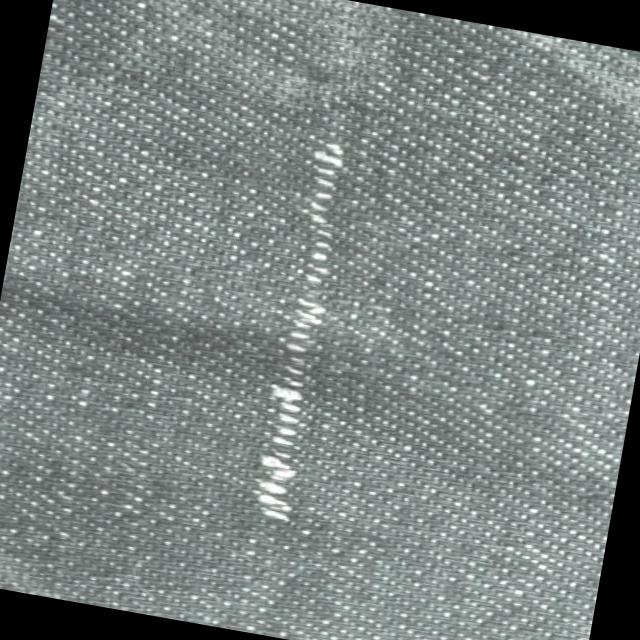Stain: (475, 27, 640, 162)
Warp_Weft: (244, 138, 360, 530)
